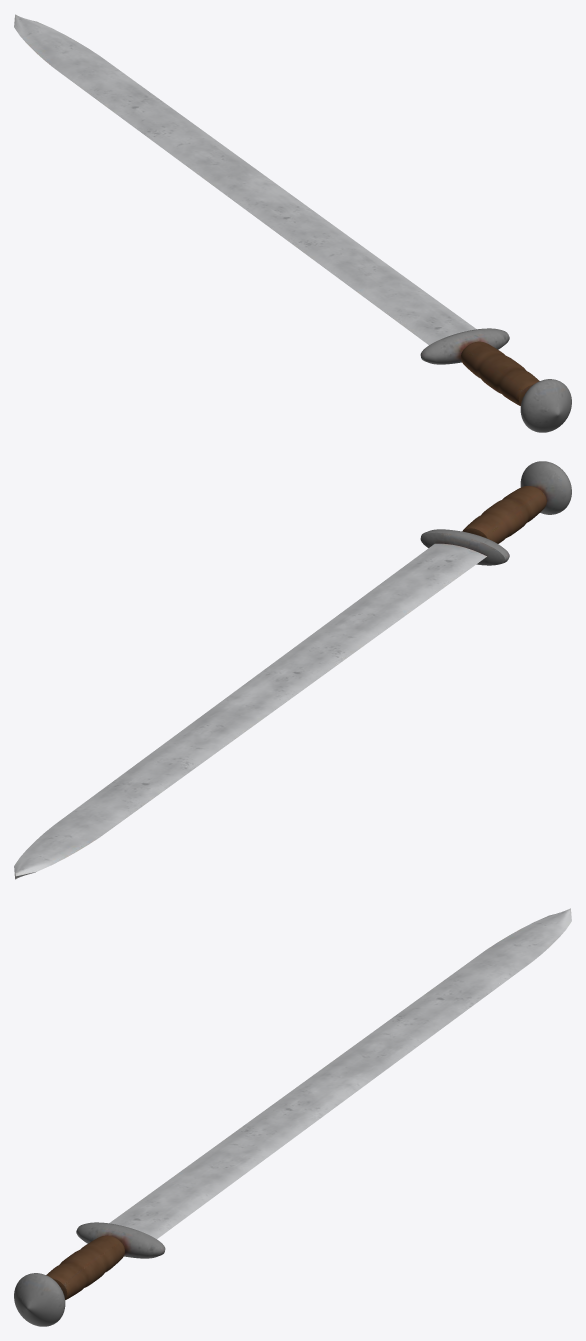
Rendered from vandal_spatha.glb.
3 views of the same model, one above another, from view 1: azimuth 30°, elevation 25°; view 2: azimuth 150°, elevation 25°; view 3: azimuth 330°, elevation 25° (orthographic).
Visible parts, largest first — view 1: vandal_spatha; view 2: vandal_spatha; view 3: vandal_spatha.
Part boxes in pixels (x1,y1,x2,y2): vandal_spatha: [14, 14, 571, 432]; vandal_spatha: [14, 461, 571, 879]; vandal_spatha: [14, 908, 571, 1326].
Size of the model in its own units: 0.0833 by 0.0467 by 0.8959.
Materials: 1 (1 with a texture image).
